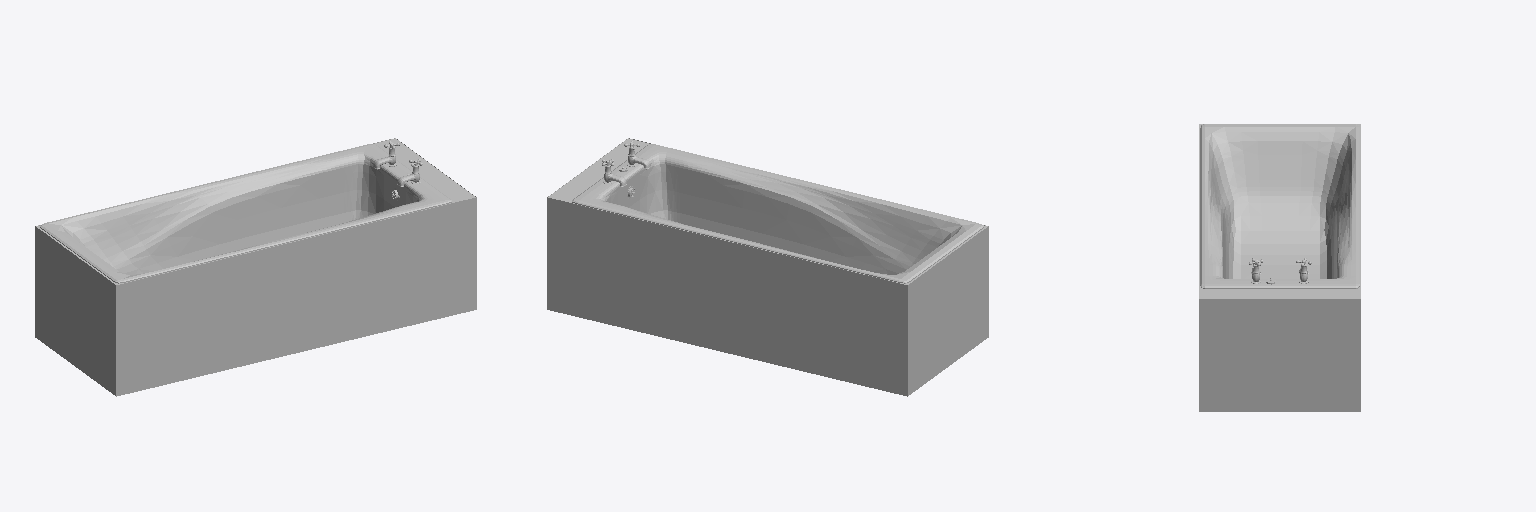
Rendered from vasca_bagno.obj.
3 renders of one model, left to right at view 1: azimuth 30°, elevation 25°; view 2: azimuth 150°, elevation 25°; view 3: azimuth 270°, elevation 25°, orthographic.
Visible parts, largest first — view 1: Bath-back-panel_Plane.014, Bath_Plane.001; view 2: Bath-back-panel_Plane.014, Bath_Plane.001; view 3: Bath_Plane.001, Bath-back-panel_Plane.014.
Part boxes in pixels (x1,y1,x2,y2): Bath-back-panel_Plane.014: (35, 138, 476, 396); Bath_Plane.001: (40, 144, 451, 283); Bath-back-panel_Plane.014: (547, 138, 988, 396); Bath_Plane.001: (572, 144, 983, 283); Bath_Plane.001: (1200, 124, 1359, 288); Bath-back-panel_Plane.014: (1199, 124, 1360, 411).
Size of the model in its own units: 180 by 65.06 by 70.08.